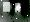person: (4, 4, 11, 16), (16, 4, 21, 13)
